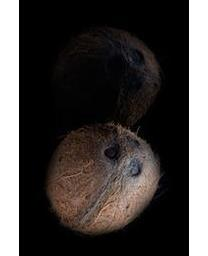coconut: (45, 121, 162, 237), (51, 22, 161, 121)
